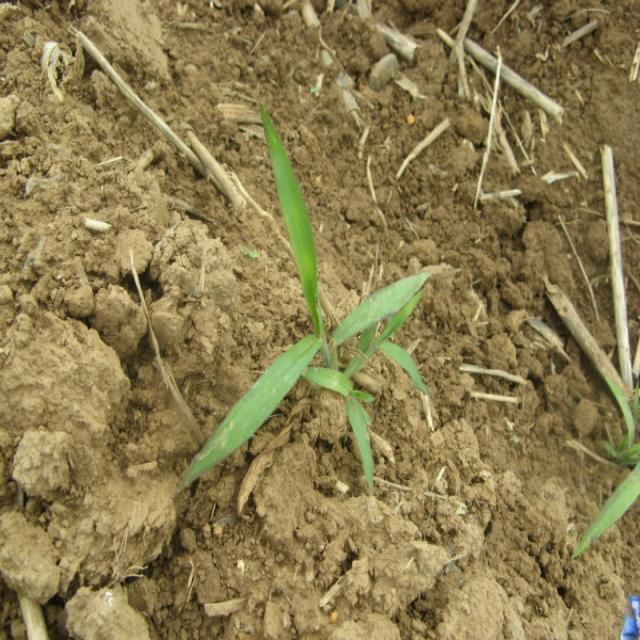bg: (182, 107, 431, 515)
